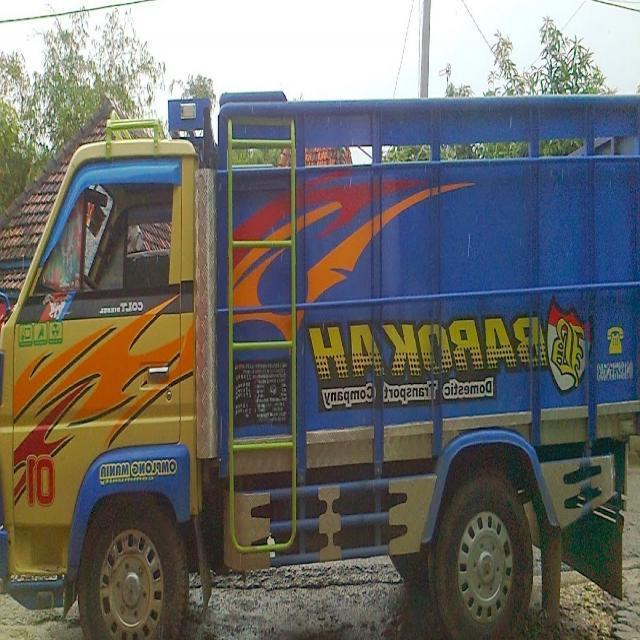truck: (0, 80, 639, 639)
